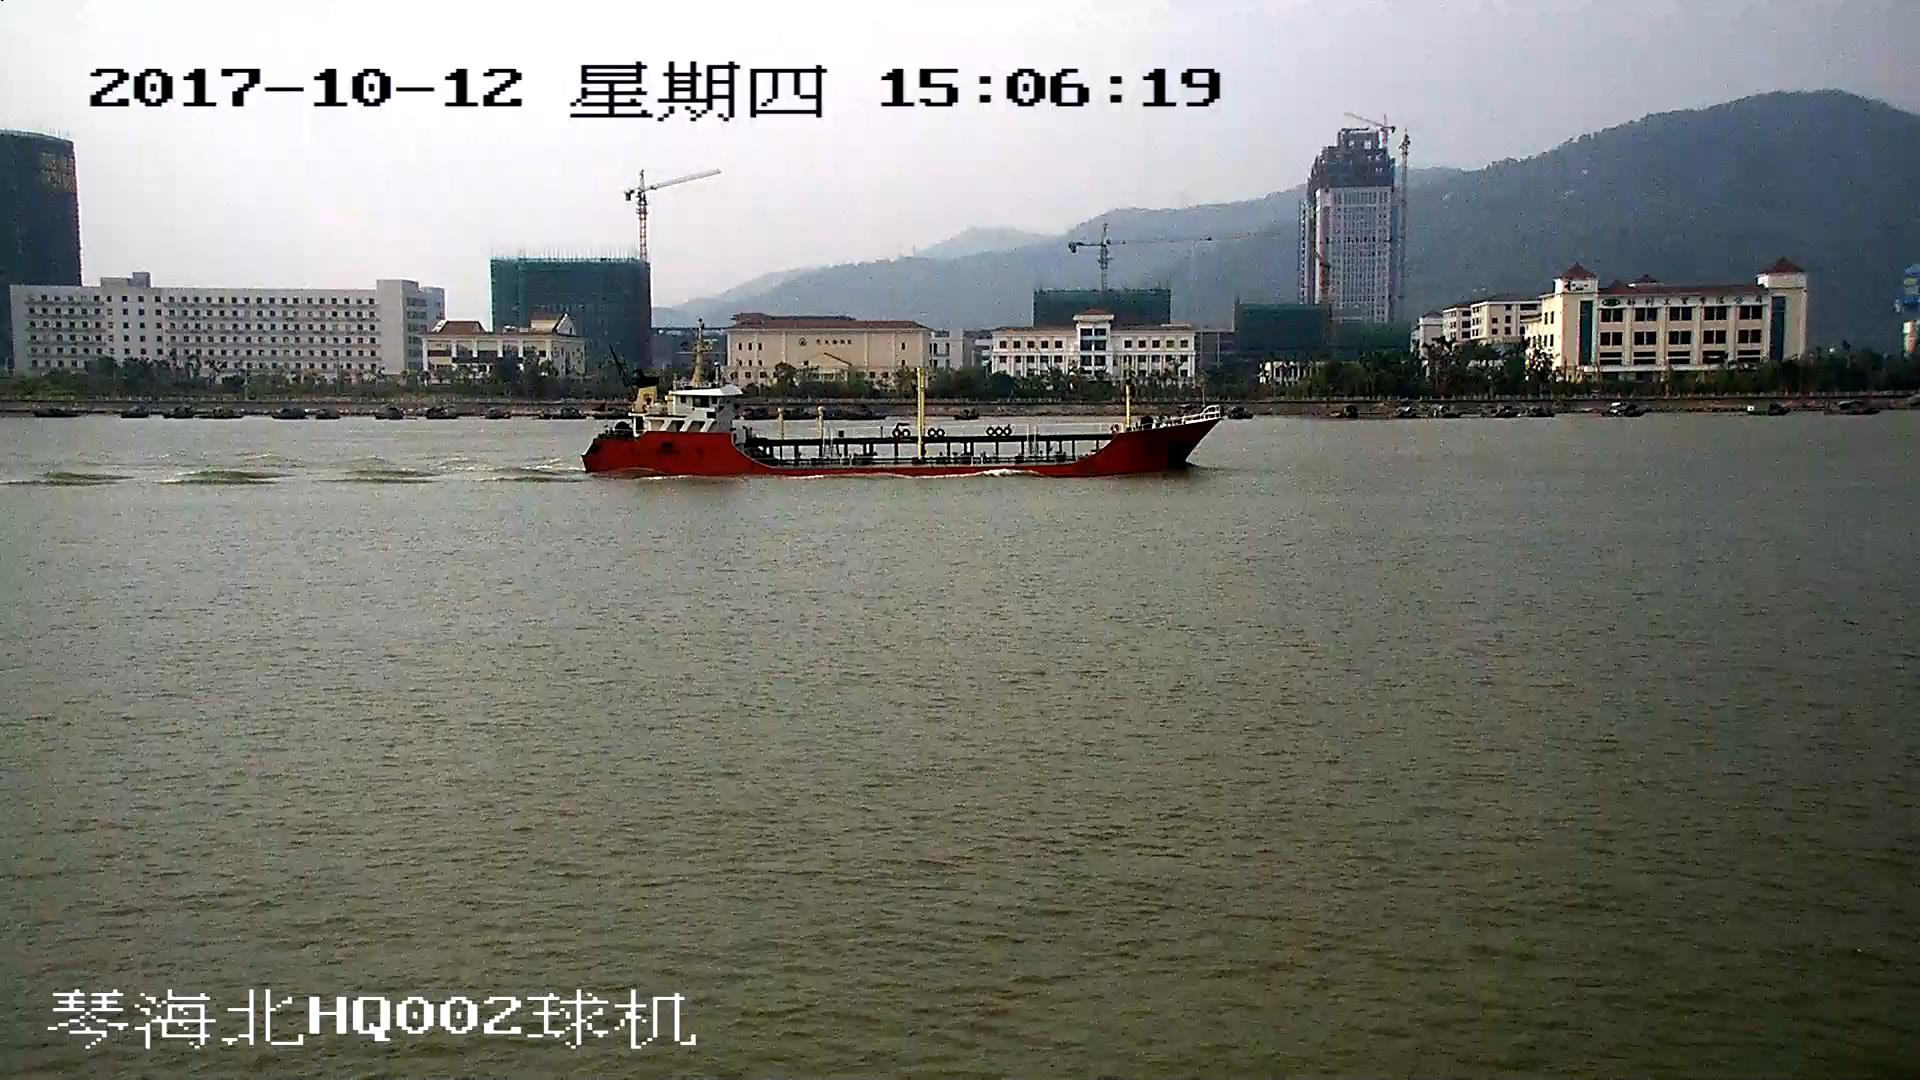general cargo ship: (577, 333, 1222, 479)
